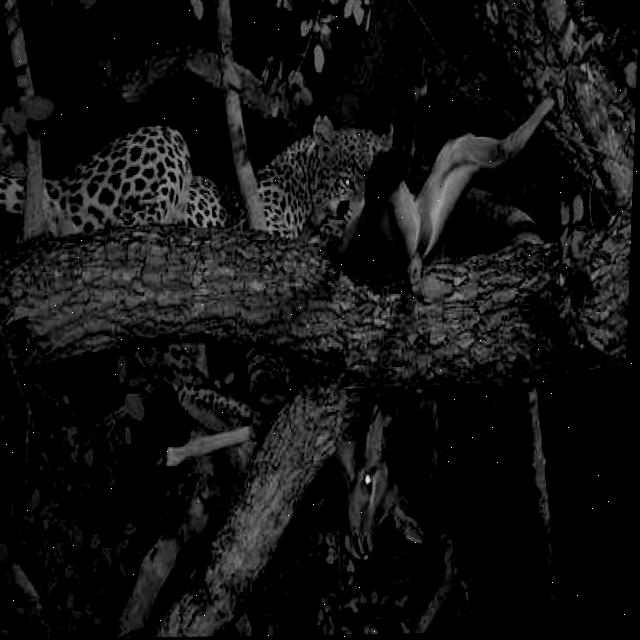Leopard: (83, 66, 379, 296)
